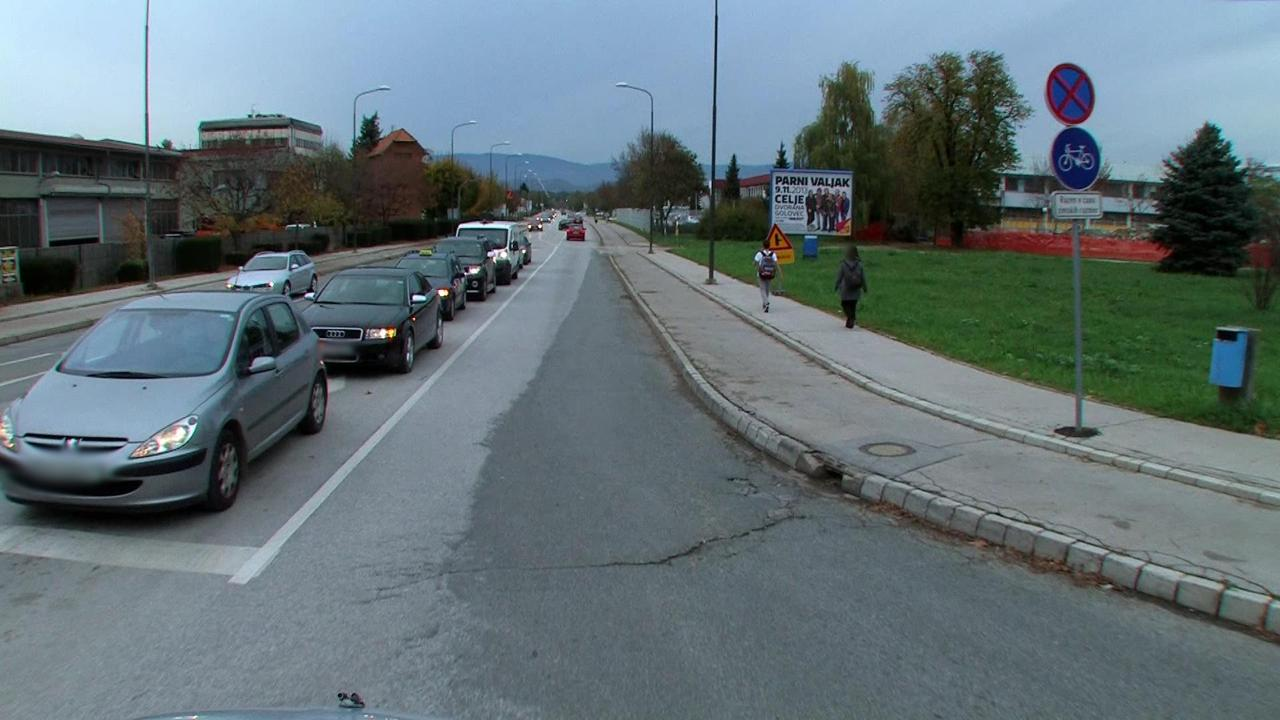Rectangle: (1053, 194, 1103, 220)
Round: (1046, 60, 1096, 124), (1051, 127, 1101, 191)
Triangle: (762, 221, 792, 251)
